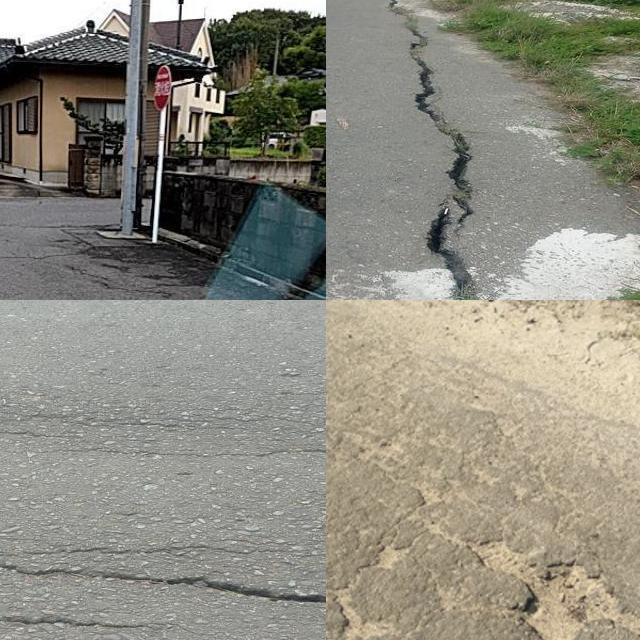Lubang: (472, 541, 640, 640)
Melintang: (0, 537, 326, 614), (0, 607, 154, 638)
Memanjang: (367, 0, 487, 300)
